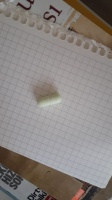Aferin: (36, 94, 62, 108)
